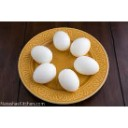begg: (76, 56, 100, 76), (34, 63, 56, 83), (54, 31, 70, 50)
